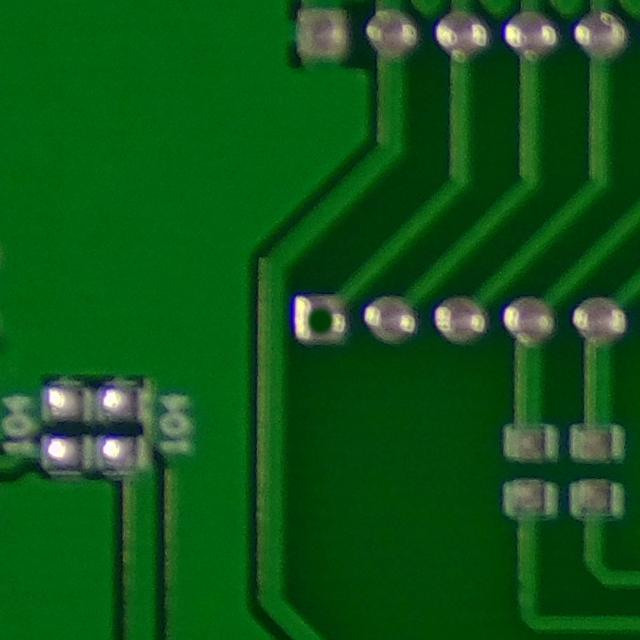missing_hole: (291, 290, 352, 353)
